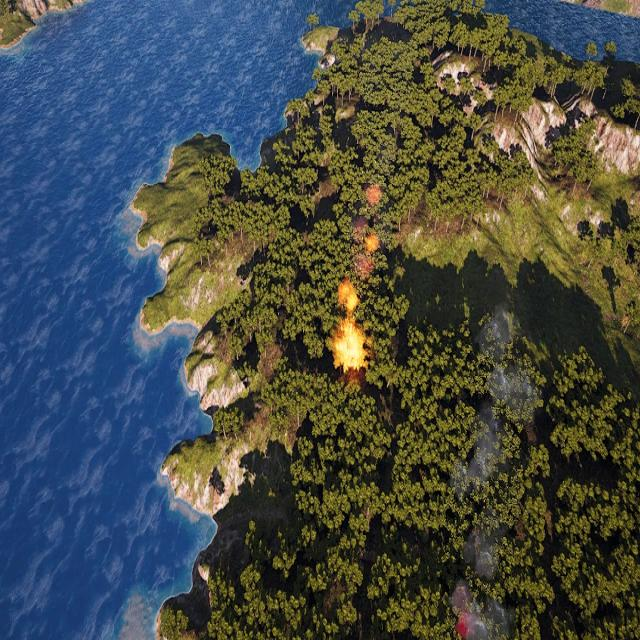fire: (334, 321, 366, 372), (339, 284, 359, 314), (365, 237, 377, 252)
smoke: (449, 302, 533, 497), (450, 526, 516, 639), (351, 181, 382, 279), (364, 181, 380, 208)
